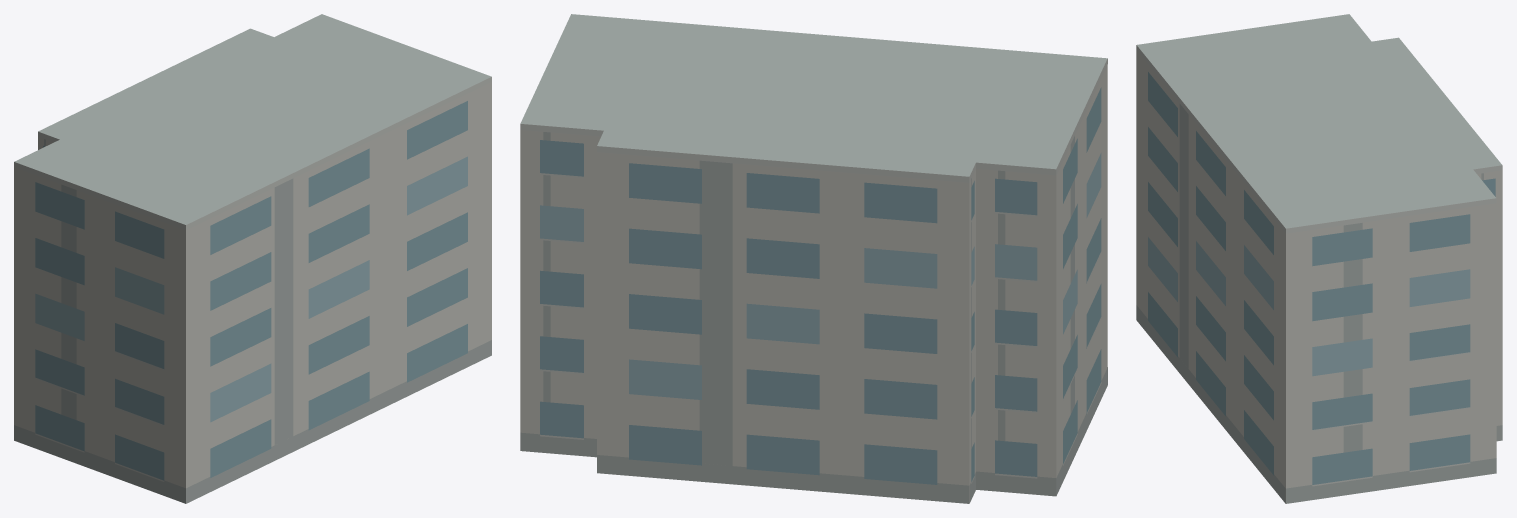
The model's file is residential-0725ce6b-b525-4808-9c69-e4e545e01c9f.glb.
3 views of the same model, side by side, from view 1: azimuth 30°, elevation 25°; view 2: azimuth 150°, elevation 25°; view 3: azimuth 270°, elevation 25° (orthographic). The views are drawn at different scales.
Visible parts, largest first — view 1: residential-0725ce6b-b525-4808-9c69-e4e545e01c9f.tmp; view 2: residential-0725ce6b-b525-4808-9c69-e4e545e01c9f.tmp; view 3: residential-0725ce6b-b525-4808-9c69-e4e545e01c9f.tmp.
Boxes of the visible parts, x1,y1,x2,y2 form: residential-0725ce6b-b525-4808-9c69-e4e545e01c9f.tmp: (14, 14, 491, 503); residential-0725ce6b-b525-4808-9c69-e4e545e01c9f.tmp: (520, 14, 1107, 503); residential-0725ce6b-b525-4808-9c69-e4e545e01c9f.tmp: (1136, 14, 1502, 503).
Size of the model in its own units: 21.62 by 12.92 by 15.58.
